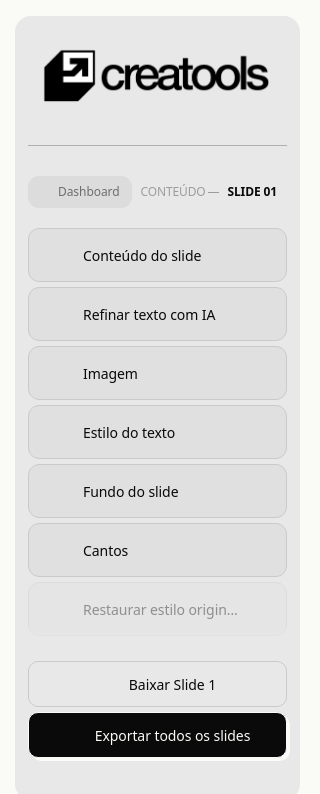
Test: CAPA — as pastilhas moram no painel de ESTILO › o painel de conteúdo continua com os campos de TEXTO — só o destaque saiu
The width and height of the screenshot is (320, 794).
What coordinates should you click on to do the following:
click the button "Conteúdo do slide"
I would click on:
 (158, 255)
Its box is [29,229,286,281].
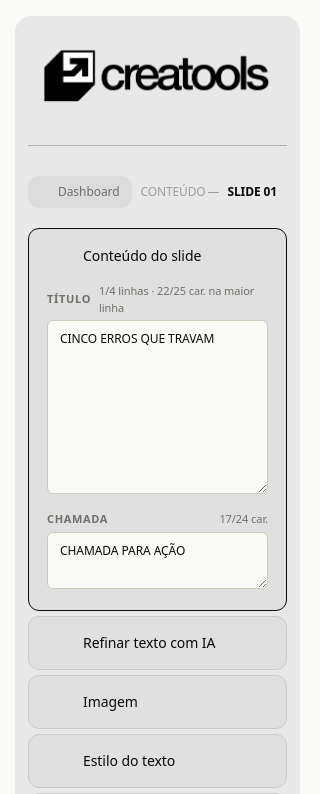
Expected: the number of text boxes is 2, [47,320,268,494]; [47,532,268,588]
